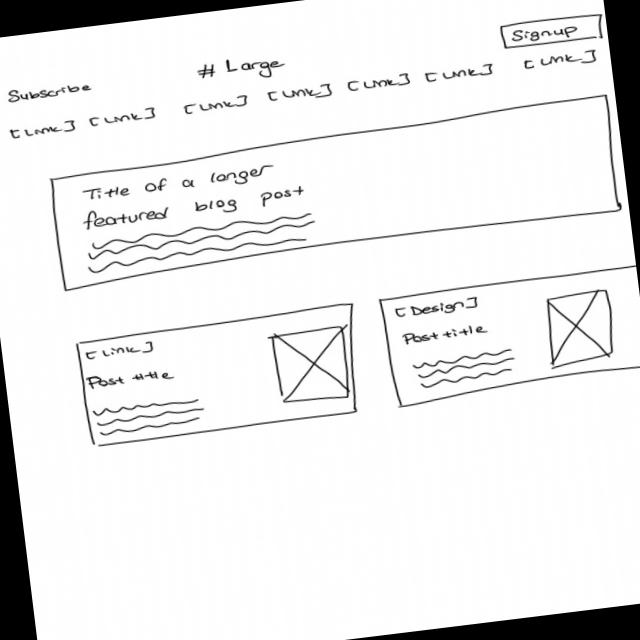button: (498, 10, 607, 50)
container: (46, 91, 624, 292), (72, 300, 368, 450), (375, 262, 640, 411)
image: (267, 324, 351, 406), (540, 287, 618, 368)
label: (80, 183, 306, 230), (79, 162, 276, 204), (410, 346, 518, 389), (193, 51, 287, 86), (84, 364, 176, 391), (4, 80, 94, 104), (401, 321, 488, 345)
link: (391, 294, 482, 321), (423, 60, 497, 84), (180, 92, 252, 116), (523, 47, 598, 70), (8, 118, 78, 142), (82, 339, 155, 362), (88, 105, 158, 128), (265, 82, 335, 104), (346, 70, 412, 92)
textbox: (80, 210, 320, 274), (91, 394, 206, 436)
